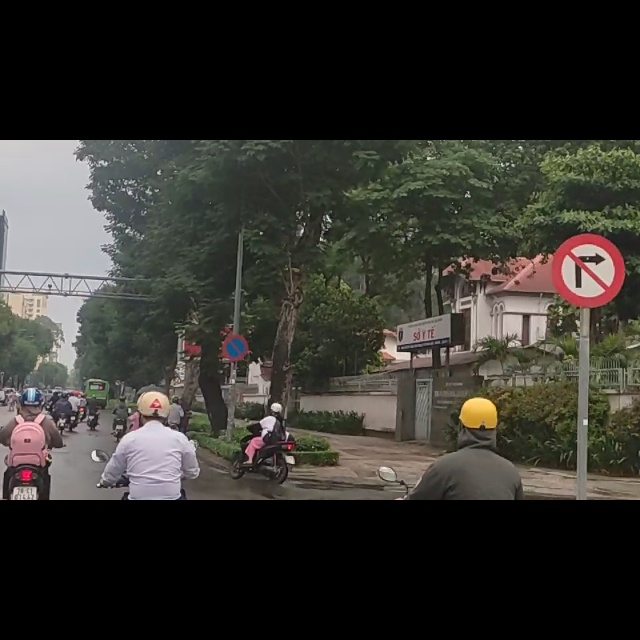bien_cam: (553, 165, 623, 297), (221, 341, 248, 390)
